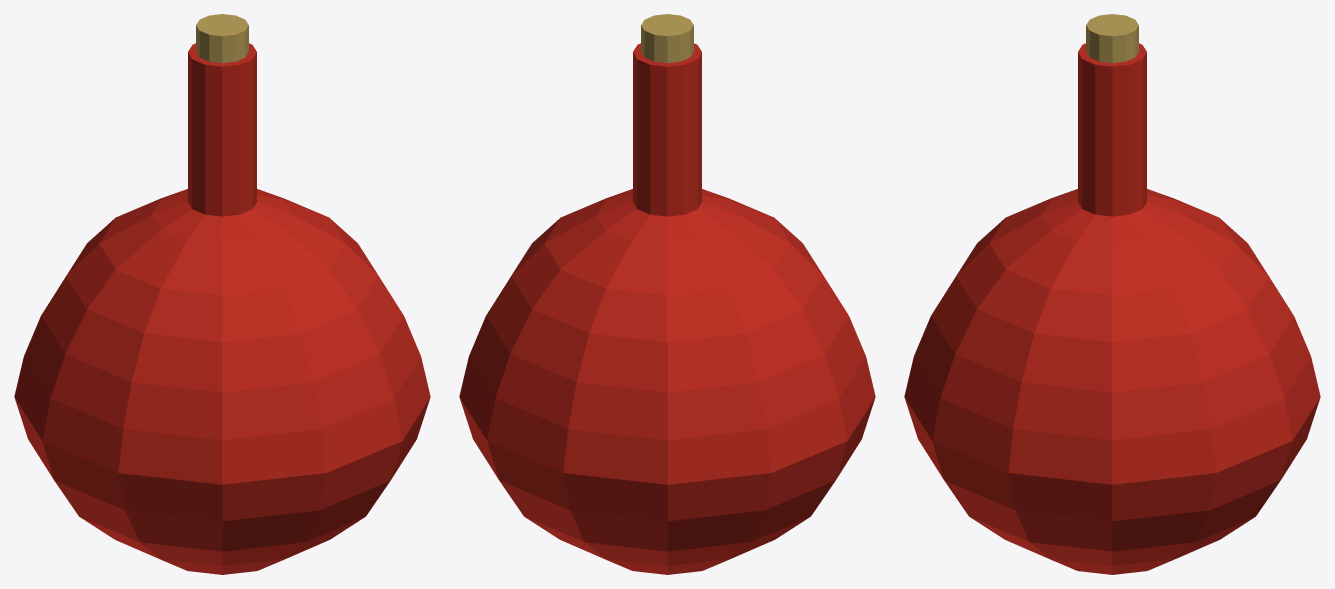
File: BigPotion_Health.fbx
The picture shows the model from 3 angles, left to right: view 1: azimuth 30°, elevation 25°; view 2: azimuth 150°, elevation 25°; view 3: azimuth 270°, elevation 25°; orthographic projection.
Visible parts, largest first — view 1: BigPotion_Health; view 2: BigPotion_Health; view 3: BigPotion_Health.
Part boxes in pixels (x1,y1,x2,y2): BigPotion_Health: [14, 14, 430, 574]; BigPotion_Health: [459, 14, 875, 574]; BigPotion_Health: [904, 14, 1320, 574].
Bounding box in the file's own units: 834 × 1150 × 834.
